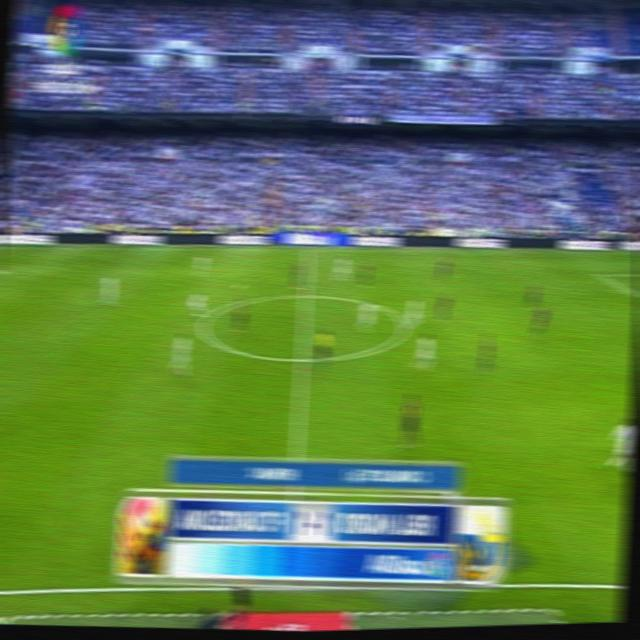halfcircle_bottom: (294, 348, 310, 371)
halfcircle_top: (298, 284, 314, 305)
midline_top_intersection: (302, 243, 314, 255)
